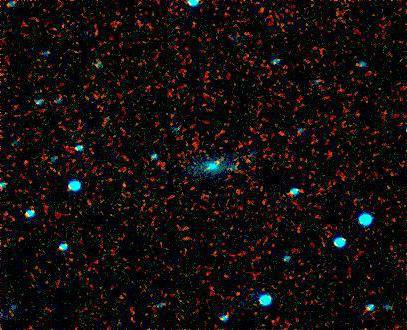star: (201, 146, 231, 176)
